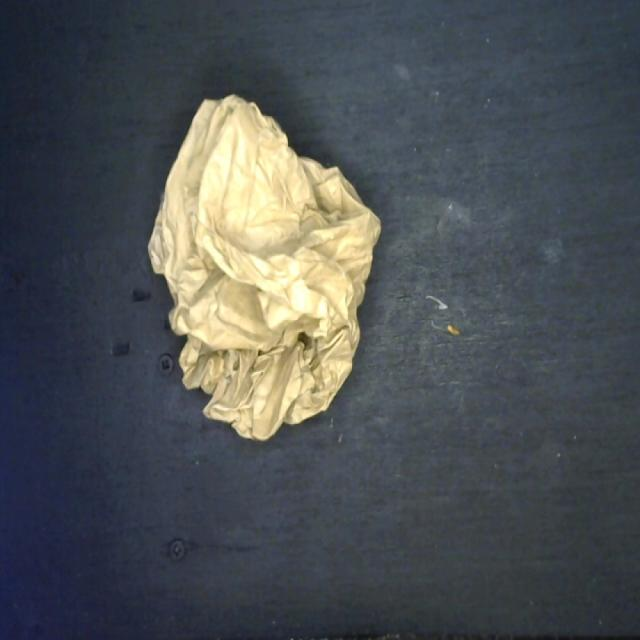biodegradable: (141, 94, 384, 450)
